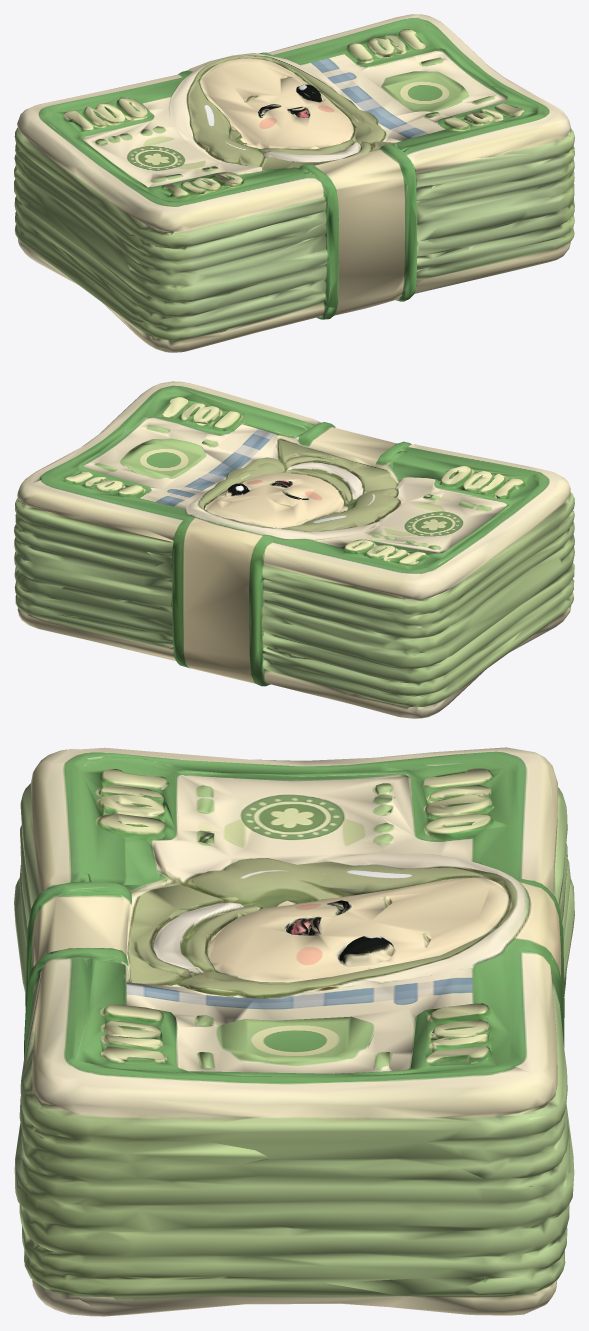
The picture shows the model from 3 angles, top to bottom: view 1: azimuth 30°, elevation 25°; view 2: azimuth 150°, elevation 25°; view 3: azimuth 270°, elevation 25°; orthographic projection. The views are drawn at different scales.
Visible parts, largest first — view 1: Meshy_AI_squishy_cash_stack_0810091813_image-to-3d-texture; view 2: Meshy_AI_squishy_cash_stack_0810091813_image-to-3d-texture; view 3: Meshy_AI_squishy_cash_stack_0810091813_image-to-3d-texture.
Boxes of the visible parts, x1=… form: Meshy_AI_squishy_cash_stack_0810091813_image-to-3d-texture: x1=14, y1=14, x2=574, y2=352; Meshy_AI_squishy_cash_stack_0810091813_image-to-3d-texture: x1=14, y1=381, x2=574, y2=718; Meshy_AI_squishy_cash_stack_0810091813_image-to-3d-texture: x1=14, y1=747, x2=574, y2=1316.
Size of the model in its own units: 1.9 by 0.6584 by 1.26.
Materials: 1 (1 with a texture image).
